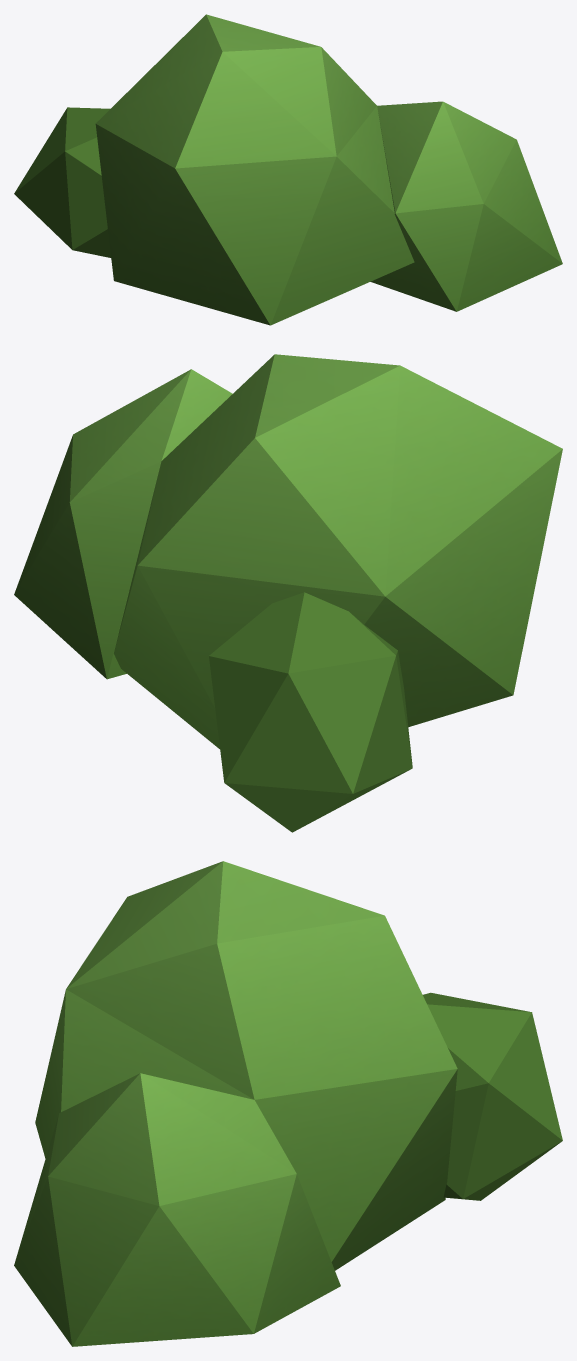
3 views of the same model, one above another, from view 1: azimuth 30°, elevation 25°; view 2: azimuth 150°, elevation 25°; view 3: azimuth 270°, elevation 25° (orthographic). The views are drawn at different scales.
Parts seen in each view (by area): view 1: GM_01; view 2: GM_01; view 3: GM_01.
Part boxes in pixels (x1,y1,x2,y2): GM_01: (14, 14, 562, 325); GM_01: (14, 354, 562, 832); GM_01: (14, 861, 562, 1346).
Size of the model in its own units: 0.832 by 0.5714 by 0.8084.
